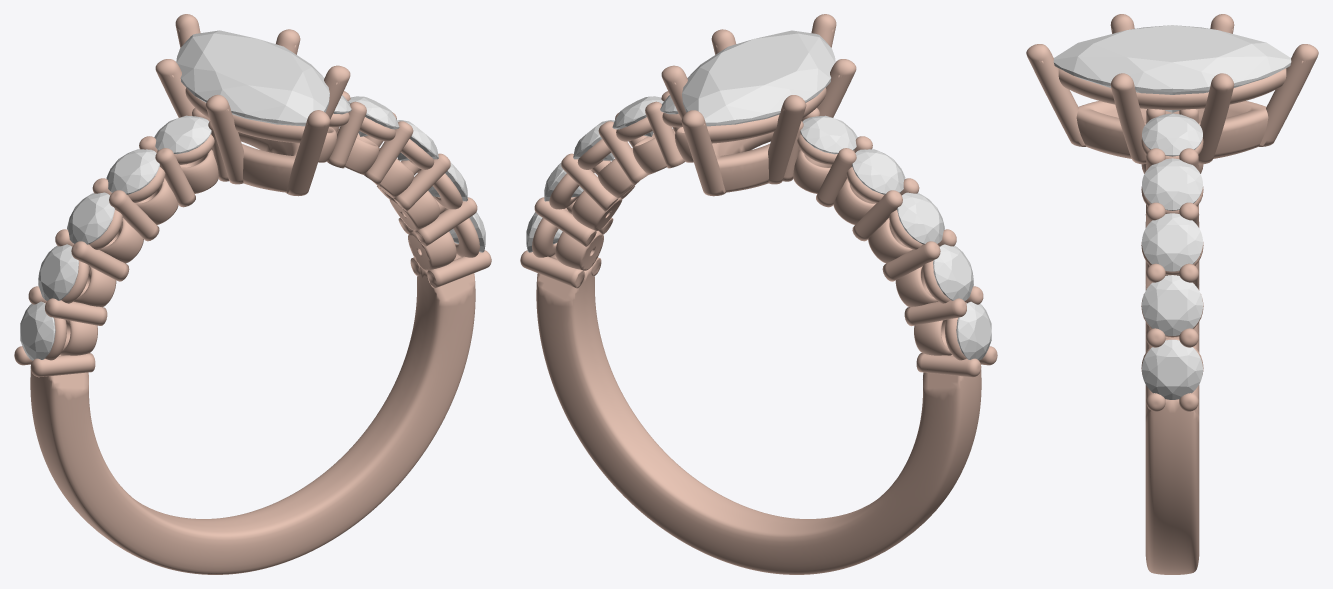
Rendered from diamond-marquise-rosegold-6prong-straightband-11stone.glb.
3 views of the same model, side by side, from view 1: azimuth 30°, elevation 25°; view 2: azimuth 150°, elevation 25°; view 3: azimuth 270°, elevation 25° (orthographic).
Visible parts, largest first — view 1: metal.001, stone.001, dia.014, dia.013, dia.015, dia.001, dia.016, dia.020; view 2: metal.001, stone.001, dia.014, dia.013, dia.015, dia.001, dia.016, dia.020; view 3: metal.001, stone.001, dia.018, dia.017, dia.019, dia.020, dia.021.
Boxes of the visible parts, bbox=[...] form: metal.001: bbox=[14, 14, 491, 574]; stone.001: bbox=[176, 30, 329, 126]; dia.014: bbox=[67, 192, 114, 244]; dia.013: bbox=[38, 244, 78, 300]; dia.015: bbox=[106, 149, 159, 194]; dia.001: bbox=[20, 301, 55, 360]; dia.016: bbox=[154, 115, 211, 154]; dia.020: bbox=[348, 96, 399, 136]; metal.001: bbox=[520, 14, 997, 574]; stone.001: bbox=[682, 30, 835, 126]; dia.014: bbox=[897, 192, 944, 244]; dia.013: bbox=[933, 244, 973, 300]; dia.015: bbox=[852, 149, 905, 194]; dia.001: bbox=[956, 301, 991, 360]; dia.016: bbox=[800, 115, 857, 154]; dia.020: bbox=[612, 96, 663, 136]; metal.001: bbox=[1026, 14, 1318, 574]; stone.001: bbox=[1053, 25, 1291, 112]; dia.018: bbox=[1142, 275, 1202, 335]; dia.017: bbox=[1142, 339, 1202, 399]; dia.019: bbox=[1142, 213, 1202, 271]; dia.020: bbox=[1142, 158, 1202, 210]; dia.021: bbox=[1142, 113, 1202, 156].
Size of the model in its own units: 21.88 by 22.94 by 11.96.
